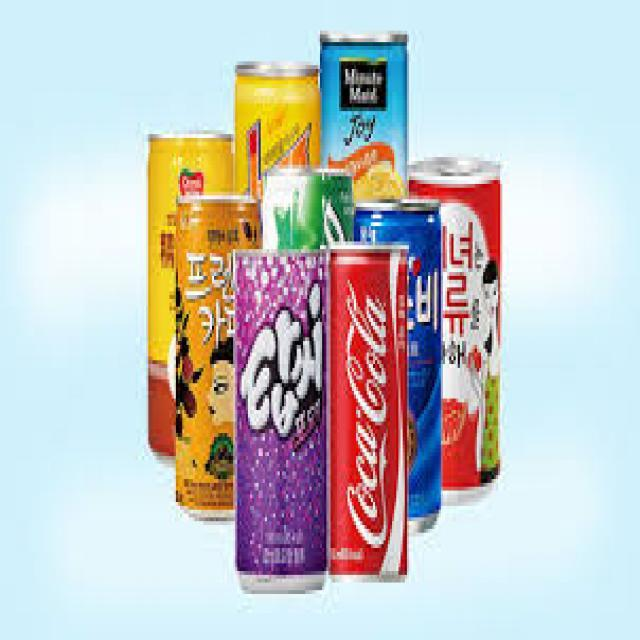coca-cola: (330, 242, 408, 590)
